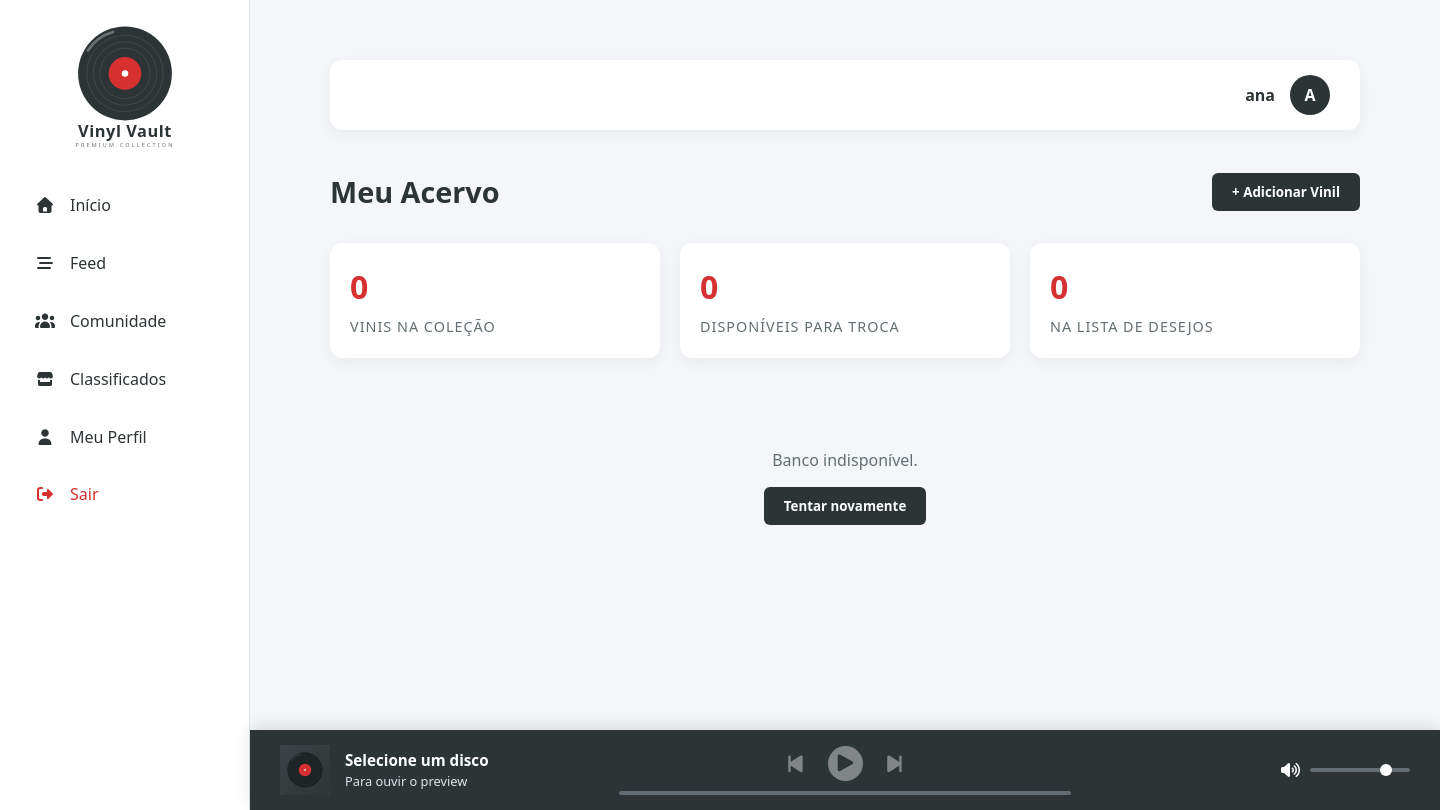
Test case: Dashboard › shows the failure with a retry that works
This screenshot has width=1440, height=810.
Expected: the message shows "Banco indisponível.", [772, 449, 918, 471]
Click the button "Tentar novamente" at (845, 506), box [764, 487, 926, 525]
(page scrolled)
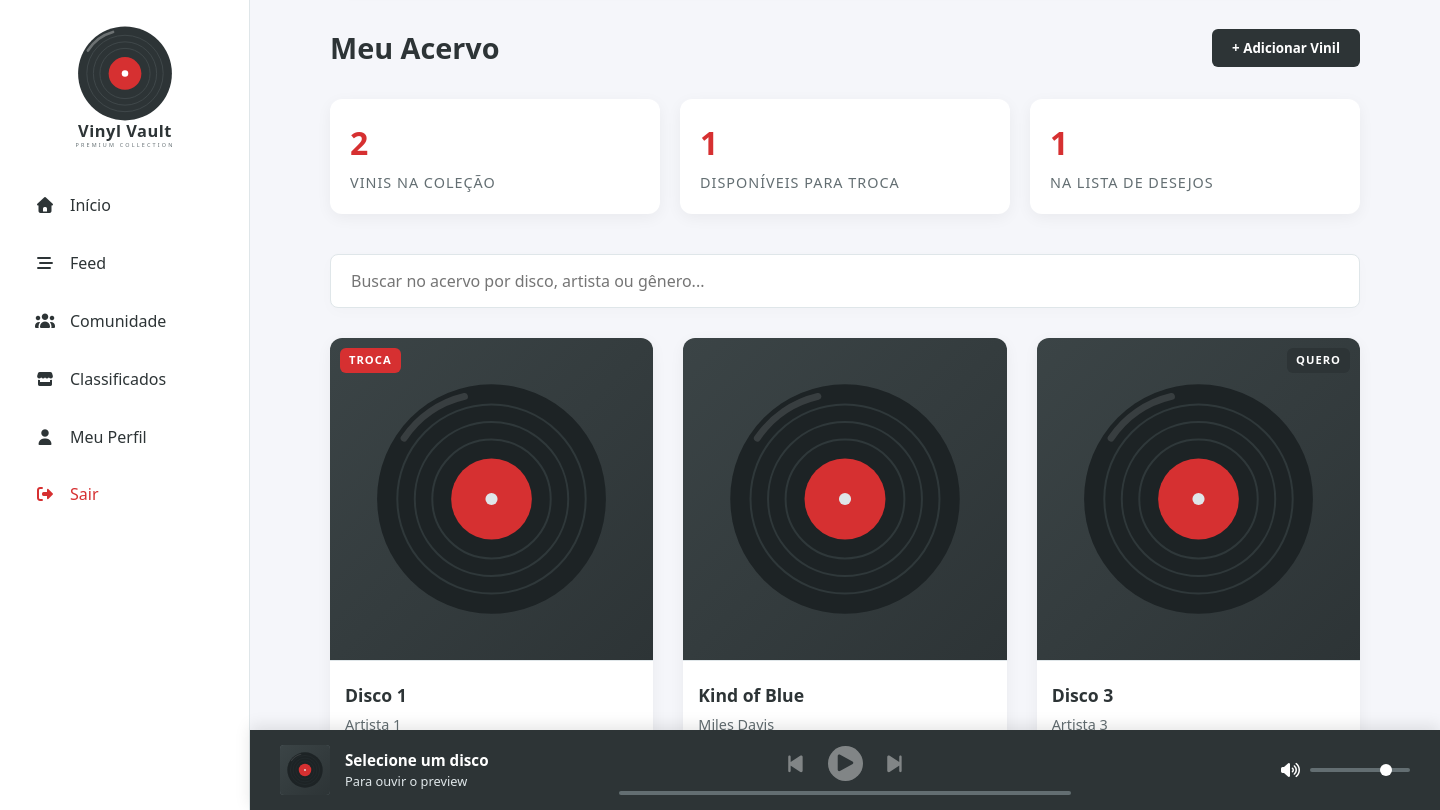
Expected: the button "Troca Disco 1 Artista 1" is shown, [330, 338, 653, 750]
